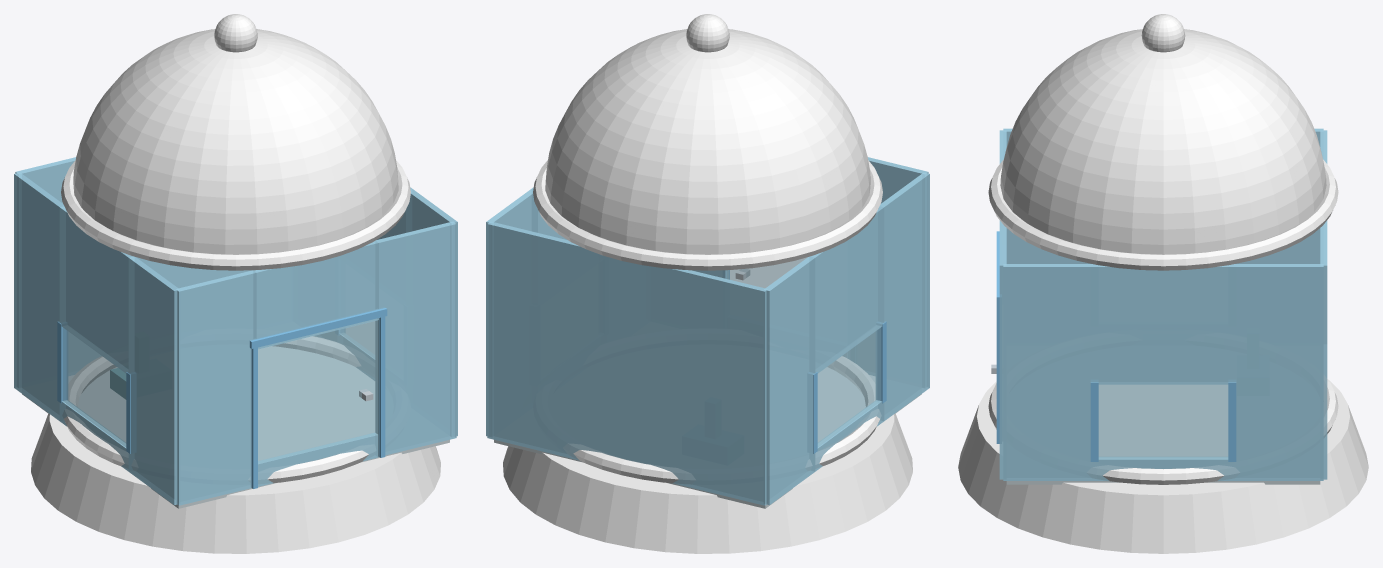
File: aero_dome.glb
3 views of the same model, side by side, from view 1: azimuth 30°, elevation 25°; view 2: azimuth 150°, elevation 25°; view 3: azimuth 270°, elevation 25° (orthographic).
Visible parts, largest first — view 1: Original_glass_1, Original_solid, Shell_Front_Side_-1, Shell_Front_Side_1, Door_Main_Glass, Walkable_Interior_Floor, Shell_Side_-1_End_1, Shell_Side_-1_End_-1, Shell_Front_Header, Shell_Side_-1_Header, Original_metal_1, Original_metal (+13 smaller); view 2: Shell_Back, Original_glass_1, Original_solid, Shell_Side_-1_End_-1, Shell_Side_-1_End_1, Shell_Side_-1_Header, Original_metal_1, Window_Right_Glass, Original_metal, Walkable_Interior_Floor, Shell_Front_Side_-1, Shell_Side_1_End_-1 (+5 smaller); view 3: Original_glass_1, Original_solid, Shell_Side_1_End_1, Shell_Side_1_End_-1, Shell_Side_1_Header, Walkable_Interior_Floor, Window_Left_Glass, Original_metal_1, Original_metal, Shell_Side_1_Sill, Shell_Back, Original_emissive (+6 smaller).
Part boxes in pixels (<box>): Original_glass_1: <box>73,29,398,254</box>; Original_solid: <box>31,414,440,553</box>; Shell_Front_Side_-1: <box>176,270,256,505</box>; Shell_Front_Side_1: <box>375,221,456,456</box>; Door_Main_Glass: <box>258,320,378,463</box>; Walkable_Interior_Floor: <box>22,346,449,508</box>; Shell_Side_-1_End_1: <box>128,256,179,504</box>; Shell_Side_-1_End_-1: <box>14,172,64,420</box>; Shell_Front_Header: <box>254,240,378,349</box>; Shell_Side_-1_Header: <box>59,206,133,373</box>; Original_metal_1: <box>61,160,410,270</box>; Original_metal: <box>63,336,369,483</box>; Shell_Back: <box>487,221,767,505</box>; Original_glass_1: <box>545,29,870,254</box>; Original_solid: <box>503,414,912,553</box>; Shell_Side_-1_End_-1: <box>764,256,815,504</box>; Shell_Side_-1_End_1: <box>879,172,929,420</box>; Shell_Side_-1_Header: <box>810,206,884,373</box>; Original_metal_1: <box>533,160,882,270</box>; Window_Right_Glass: <box>817,328,880,446</box>; Original_metal: <box>563,356,880,483</box>; Walkable_Interior_Floor: <box>494,367,921,508</box>; Shell_Front_Side_-1: <box>847,157,928,387</box>; Shell_Side_1_End_-1: <box>486,188,537,436</box>; Original_glass_1: <box>1000,29,1326,254</box>; Original_solid: <box>958,379,1368,553</box>; Shell_Side_1_End_1: <box>1003,264,1094,480</box>; Shell_Side_1_End_-1: <box>1232,264,1323,480</box>; Shell_Side_1_Header: <box>1094,264,1232,384</box>; Walkable_Interior_Floor: <box>1006,385,1320,484</box>; Window_Left_Glass: <box>1098,384,1228,459</box>; Original_metal_1: <box>988,159,1338,270</box>; Original_metal: <box>988,376,1338,484</box>; Shell_Side_1_Sill: <box>1094,457,1232,480</box>; Shell_Back: <box>1320,130,1327,479</box>; Original_emissive: <box>1141,14,1185,52</box>.
Size of the model in its own units: 2.64 by 3.2 by 2.64.
